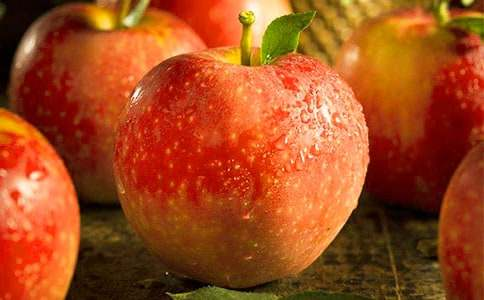apple: (111, 47, 369, 288)
